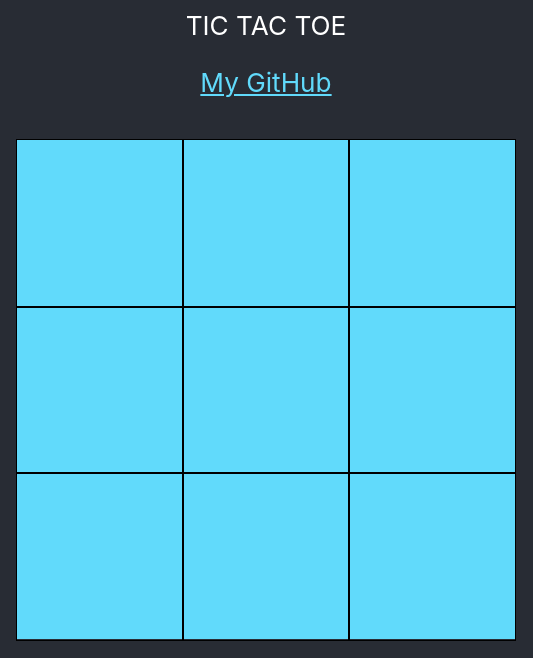
Scenario: results of game › player O is second
The image size is (533, 658).
Click the element with test id "square0": (99, 223) [16,139,183,308]
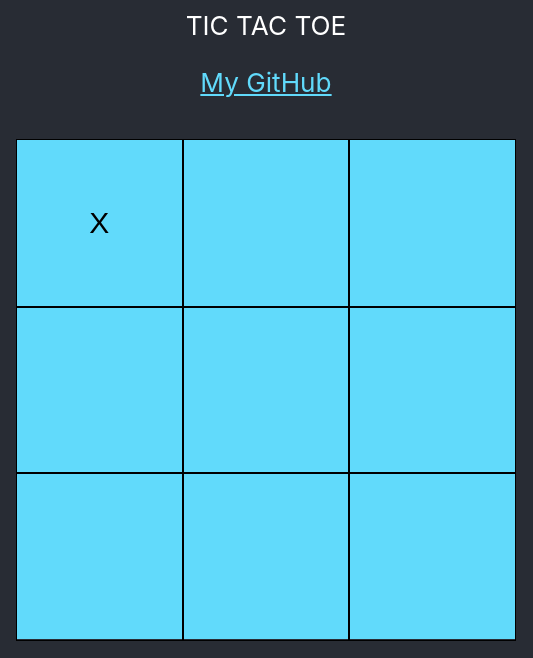
Check: the text with test id "square0" reads "X", box [89,206,109,239]
Click the element with test id "square1": (266, 223) [183,139,349,308]
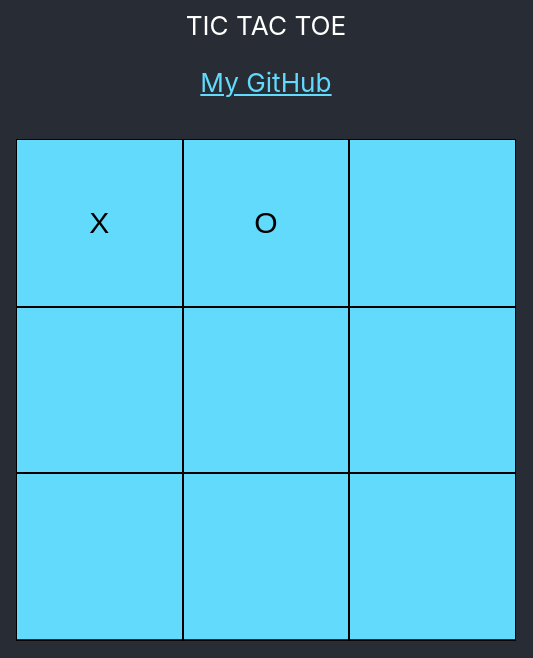
Check: the text with test id "square1" reads "O", box [254,206,278,239]
